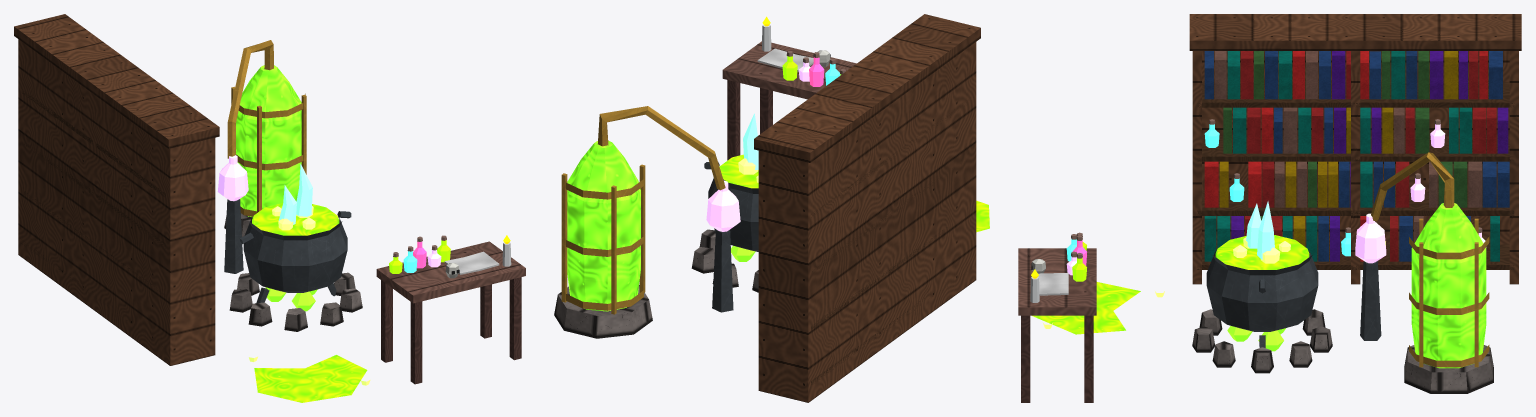
Rendered from library.glb.
3 views of the same model, side by side, from view 1: azimuth 30°, elevation 25°; view 2: azimuth 150°, elevation 25°; view 3: azimuth 270°, elevation 25° (orthographic). The views are drawn at different scales.
Visible parts, largest first — view 1: base_mesh, flame_4_mesh; view 2: base_mesh, flame_4_mesh; view 3: base_mesh, flame_4_mesh, flame_3_mesh.
Boxes of the visible parts, left/top/right/bottom form: base_mesh: left=14, top=14, right=525, bottom=402; flame_4_mesh: left=278, top=164, right=312, bottom=224; base_mesh: left=554, top=14, right=989, bottom=402; flame_4_mesh: left=743, top=113, right=758, bottom=169; base_mesh: left=1018, top=14, right=1521, bottom=402; flame_4_mesh: left=1246, top=201, right=1274, bottom=259; flame_3_mesh: left=1233, top=237, right=1290, bottom=263.
Bounding box in the file's own units: 1.85 × 1.46 × 2.7.
34 materials, 19 textured.
